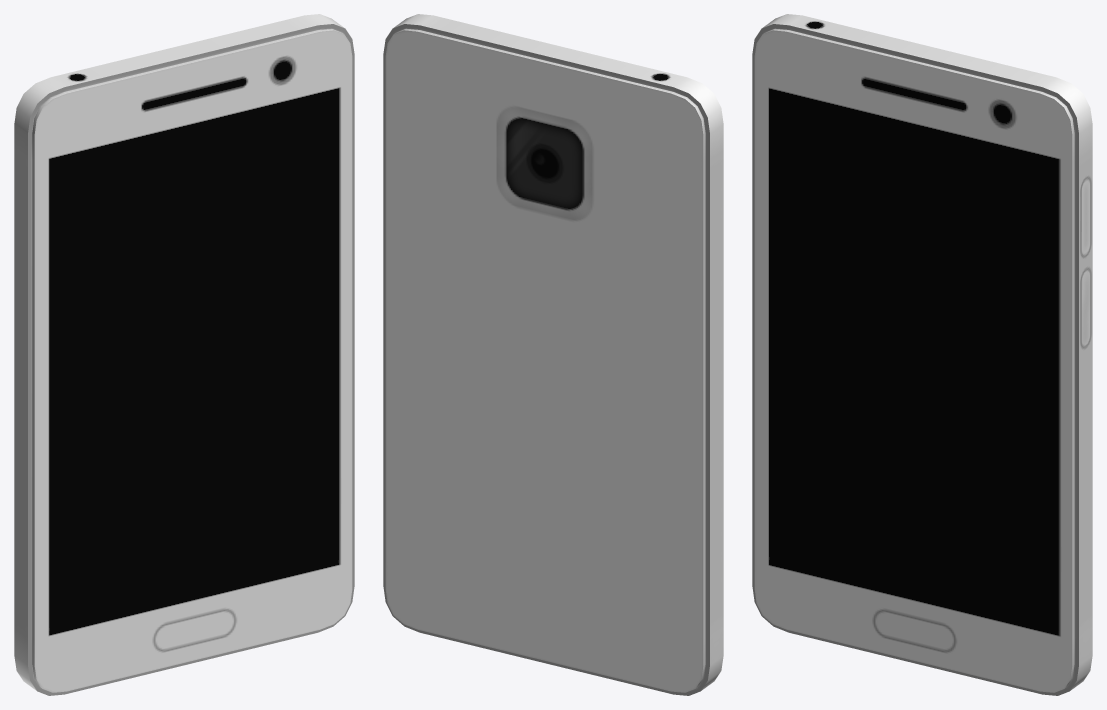
The model's file is smartphones.FBX.
3 renders of one model, left to right at view 1: azimuth 30°, elevation 25°; view 2: azimuth 150°, elevation 25°; view 3: azimuth 330°, elevation 25°, orthographic.
Parts seen in each view (by area): view 1: smartphones; view 2: smartphones; view 3: smartphones.
Part boxes in pixels (x1,y1,x2,y2): smartphones: (14, 14, 354, 695); smartphones: (383, 14, 723, 695); smartphones: (752, 14, 1092, 695).
Size of the model in its own units: 23.89 by 42.44 by 2.29.
